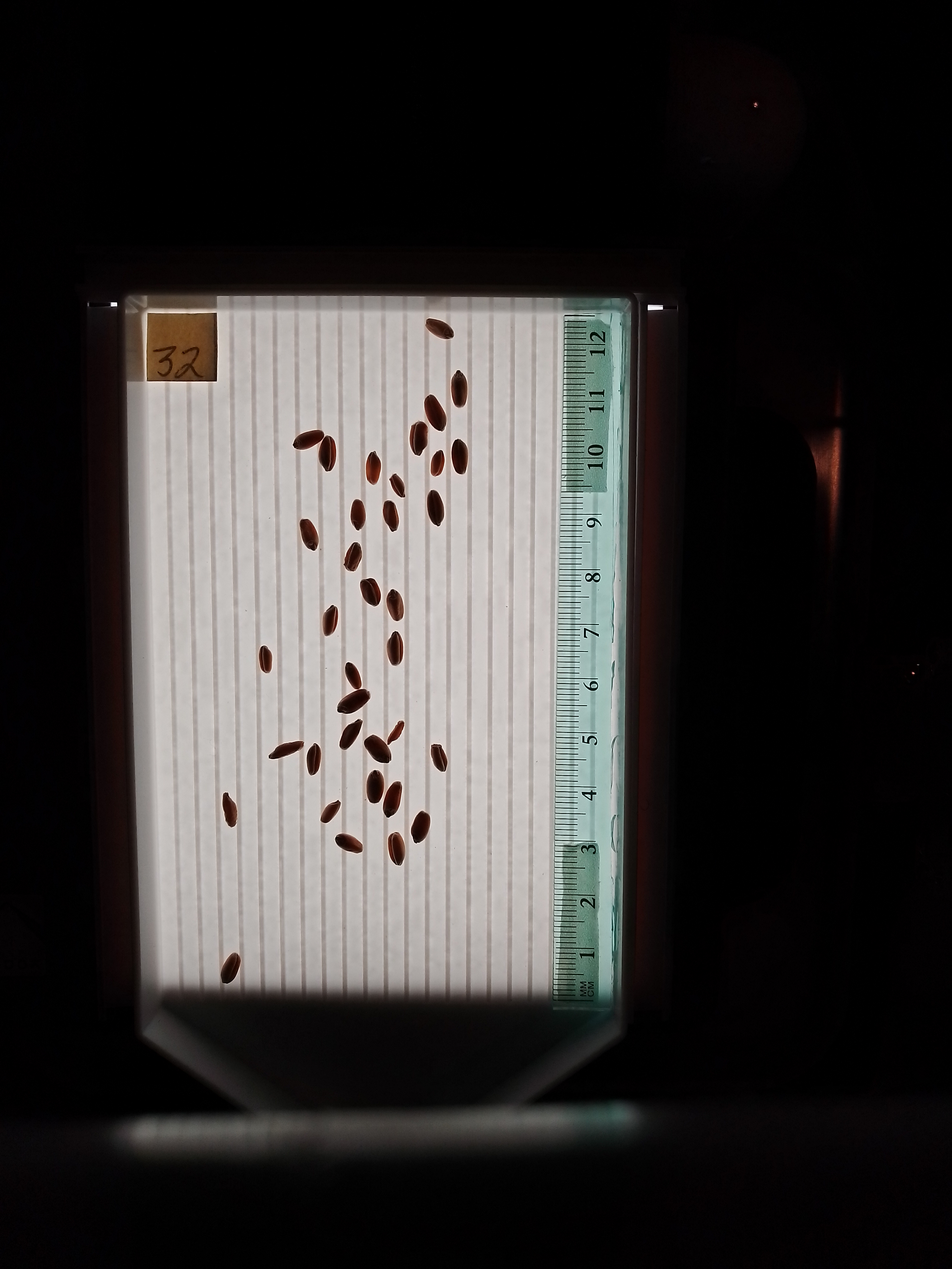seed mask: (337, 690, 370, 714), (424, 396, 446, 431), (365, 735, 391, 764), (384, 782, 402, 817), (427, 491, 445, 526), (269, 741, 303, 759), (319, 437, 337, 471), (410, 421, 428, 455), (340, 720, 361, 749), (221, 953, 240, 984), (411, 812, 430, 843), (300, 519, 319, 550), (294, 430, 323, 450), (451, 372, 468, 406), (366, 772, 384, 804), (335, 833, 362, 854), (360, 578, 381, 605), (222, 794, 238, 828), (388, 833, 405, 865), (452, 440, 468, 474), (426, 319, 453, 339), (387, 634, 403, 665), (365, 453, 381, 484), (387, 590, 404, 619), (344, 544, 362, 571), (350, 500, 366, 530), (383, 501, 399, 531), (431, 744, 447, 772), (323, 606, 339, 634), (321, 801, 341, 823), (306, 745, 321, 774), (345, 664, 361, 688), (259, 646, 272, 673), (431, 451, 445, 476), (388, 722, 404, 743), (391, 475, 405, 496)
